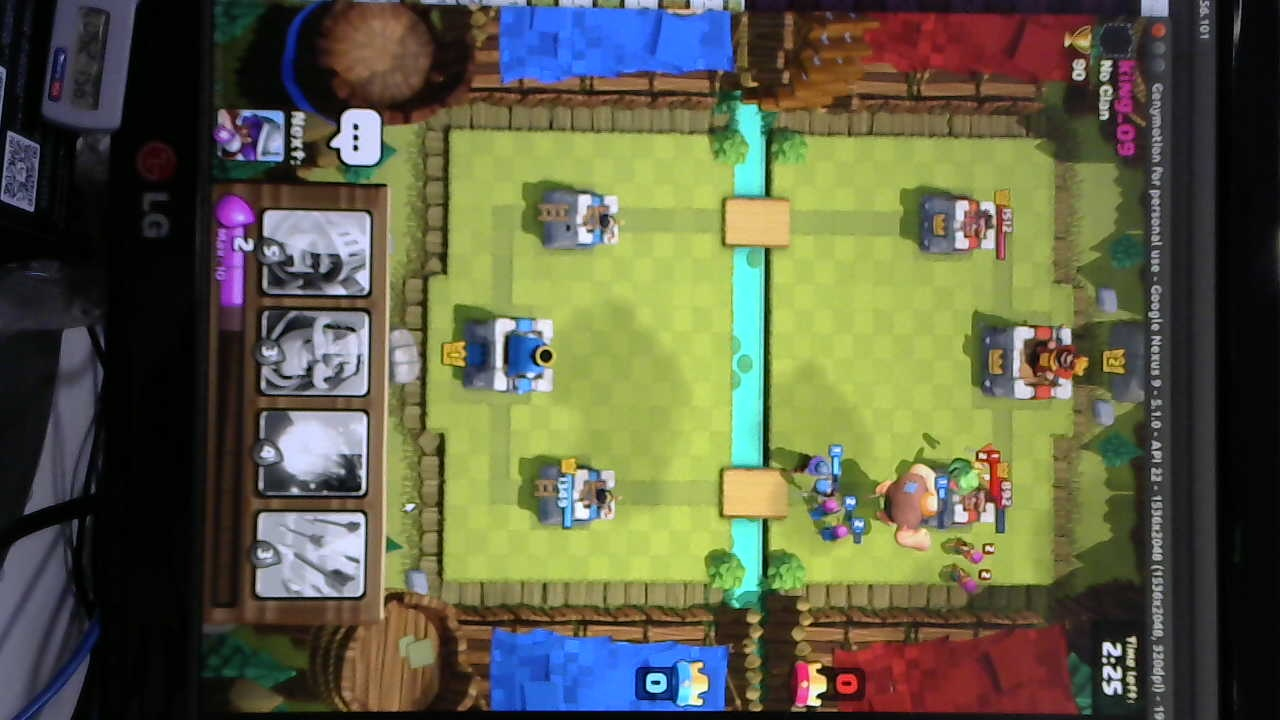archers: (811, 491, 857, 553), (950, 537, 993, 597)
arena: (537, 466, 621, 526), (539, 192, 622, 250)
bomb: (800, 476, 846, 500)
dragon: (943, 447, 1002, 498)
earena: (915, 191, 999, 259), (940, 473, 999, 533)
eking: (980, 321, 1080, 402)
giant: (877, 458, 941, 554)
king: (461, 311, 559, 397)
musketeer: (796, 449, 840, 482)
